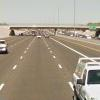Car: (70, 50, 100, 100), (2, 36, 9, 56)
